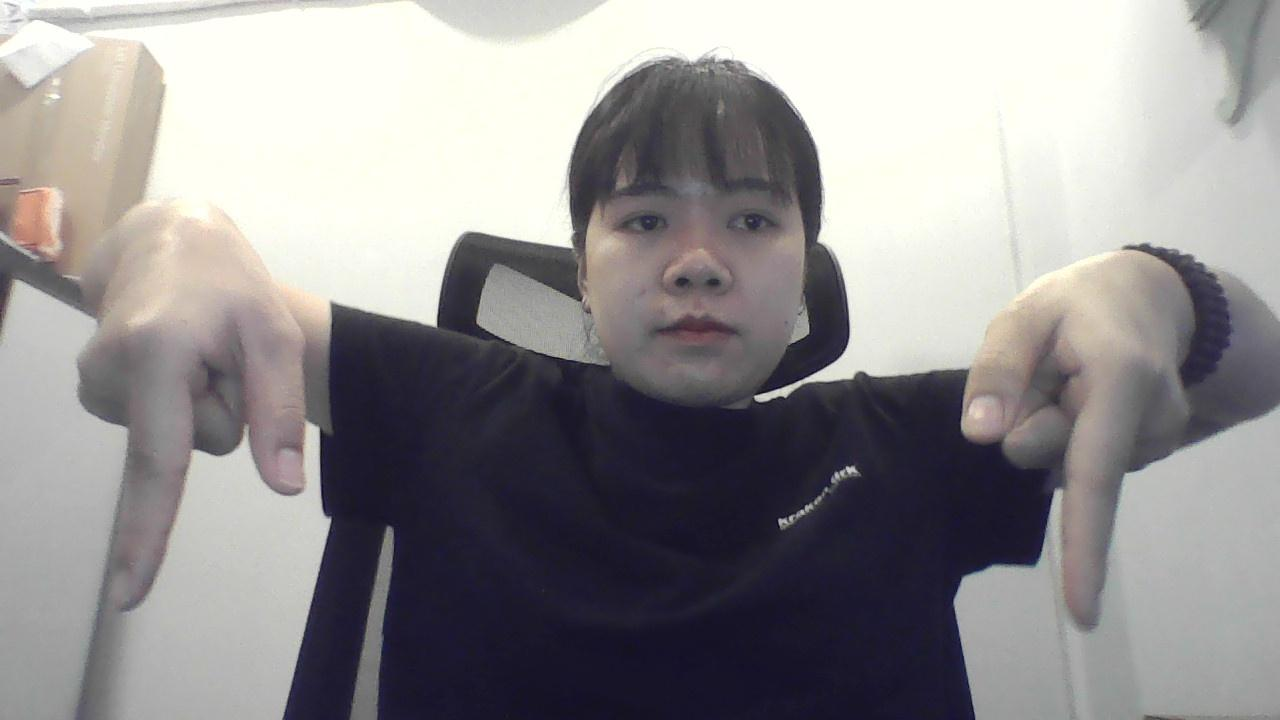Q: (71, 234, 319, 633), (944, 259, 1201, 643)
